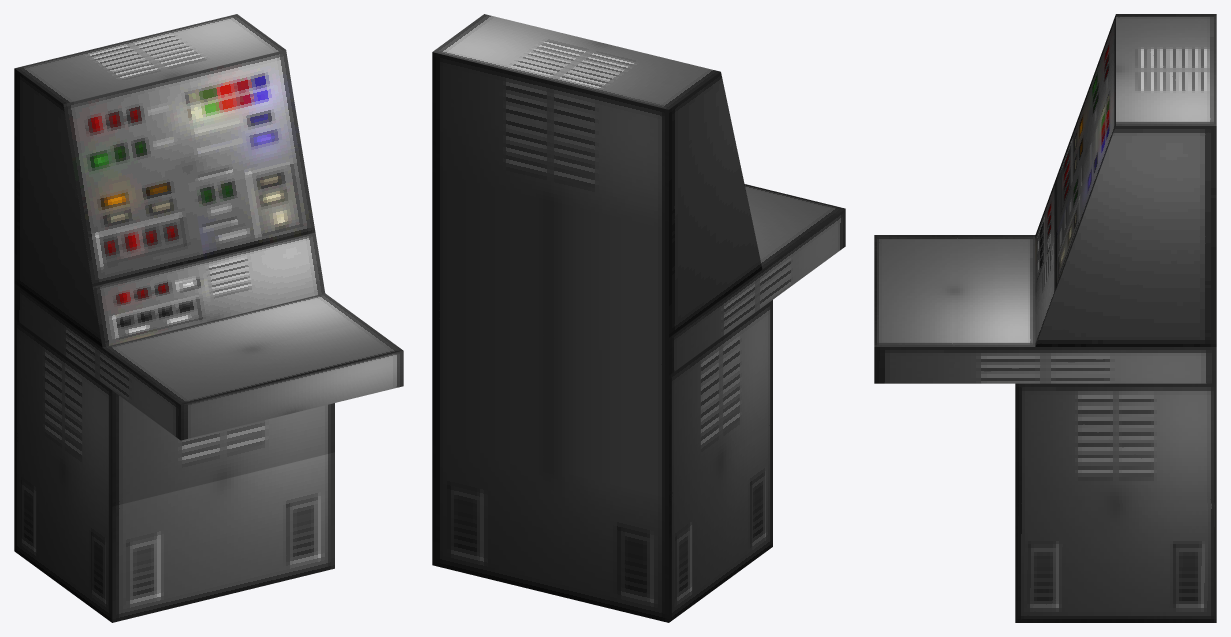
File: primary_068.glb
3 views of the same model, side by side, from view 1: azimuth 30°, elevation 25°; view 2: azimuth 150°, elevation 25°; view 3: azimuth 270°, elevation 25° (orthographic). The views are drawn at different scales.
Visible parts, largest first — view 1: Object; view 2: Object; view 3: Object.
Boxes of the visible parts, <box> form: Object: <box>14,14,403,622</box>; Object: <box>432,14,845,622</box>; Object: <box>874,14,1216,622</box>.
Bounding box in the file's own units: 0.8592 × 1.78 × 1.11.
Materials: 21 (21 with a texture image).
